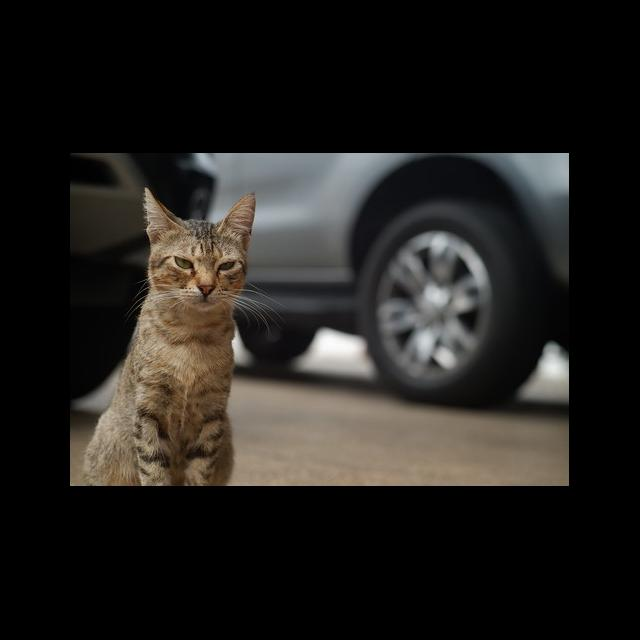animals: (70, 188, 256, 486)
